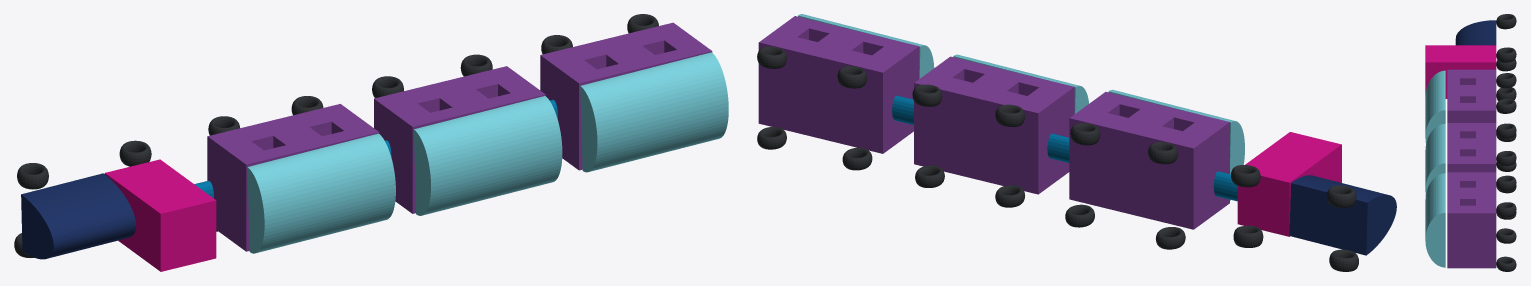
File: tinker.obj
The picture shows the model from 3 angles, left to right: view 1: azimuth 30°, elevation 25°; view 2: azimuth 150°, elevation 25°; view 3: azimuth 270°, elevation 25°; orthographic projection. The views are drawn at different scales.
Visible parts, largest first — view 1: group_0_7720667, group_0_8273816, group_0_14093196, group_0_1650274, group_0_2829873; view 2: group_0_8273816, group_0_2829873, group_0_14093196, group_0_1650274, group_0_7720667, group_0_30377; view 3: group_0_8273816, group_0_7720667, group_0_2829873, group_0_14093196, group_0_1650274.
Part boxes in pixels (x1,y1,x2,y2): group_0_7720667: [247, 52, 728, 253]; group_0_8273816: [207, 22, 712, 251]; group_0_14093196: [104, 159, 216, 271]; group_0_1650274: [21, 173, 135, 259]; group_0_2829873: [14, 14, 658, 257]; group_0_8273816: [758, 16, 1229, 229]; group_0_2829873: [757, 46, 1358, 271]; group_0_14093196: [1237, 132, 1341, 236]; group_0_1650274: [1289, 175, 1396, 255]; group_0_7720667: [798, 14, 1244, 200]; group_0_30377: [892, 95, 1237, 201]; group_0_8273816: [1447, 69, 1496, 268]; group_0_7720667: [1425, 70, 1445, 267]; group_0_2829873: [1496, 14, 1516, 271]; group_0_14093196: [1425, 45, 1496, 98]; group_0_1650274: [1455, 20, 1496, 45].
Size of the model in its own units: 235 by 36 by 45.
